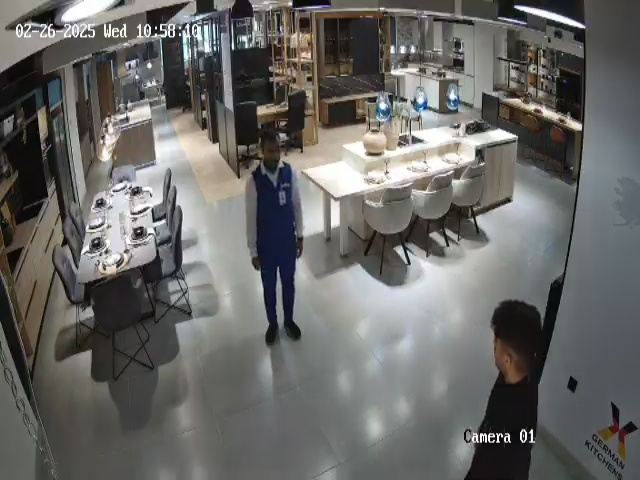employee: (245, 131, 304, 346)
male: (463, 299, 546, 480)
